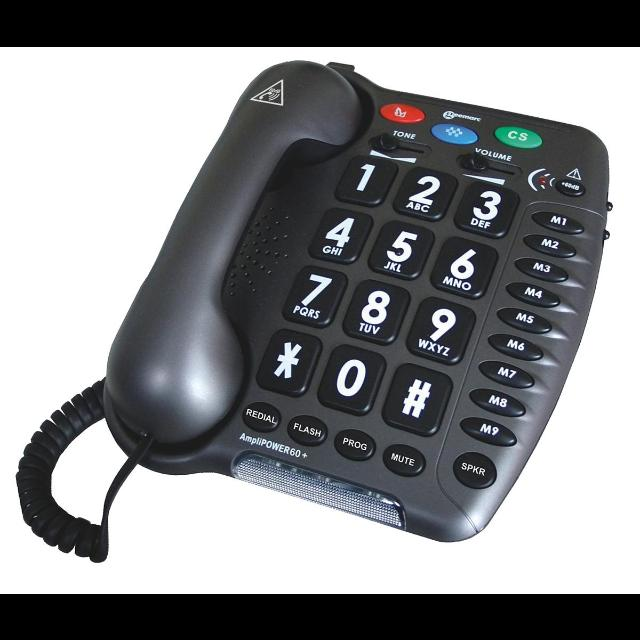Telephone-Set: (82, 54, 608, 548)
